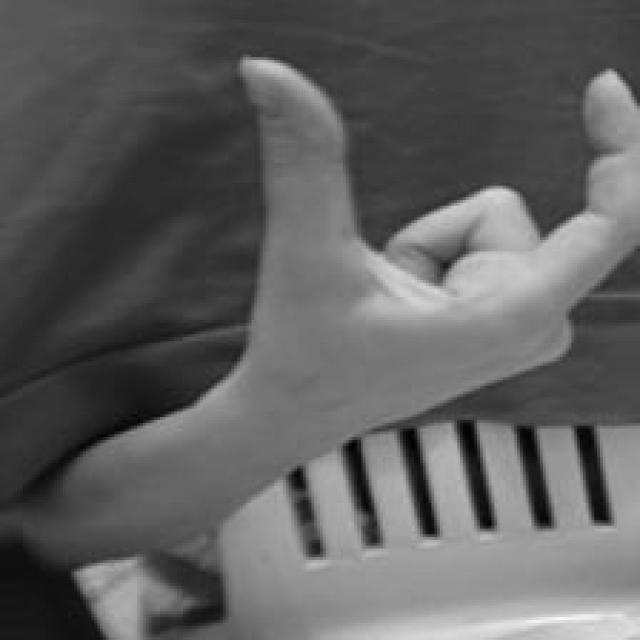U: (230, 43, 640, 473)
